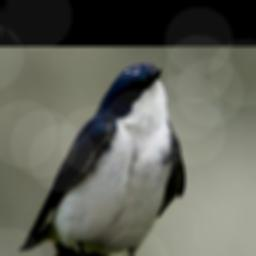Swallow: (17, 61, 186, 256)
